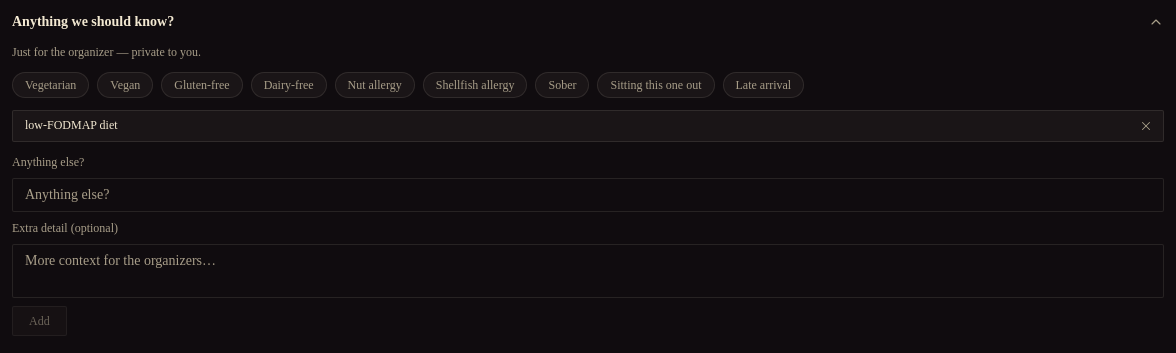
Test: ItemFlagForm — initialFlags pass-through (#365 / #398) › wires the custom-flag remove control to removeItemFlag (#398)
This screenshot has width=1176, height=353.
What coordinates should you click on to do the following:
click the button named "Remove \"low-FODMAP diet\""
I would click on:
 (1146, 126)
Its box is [1137,117,1155,135].
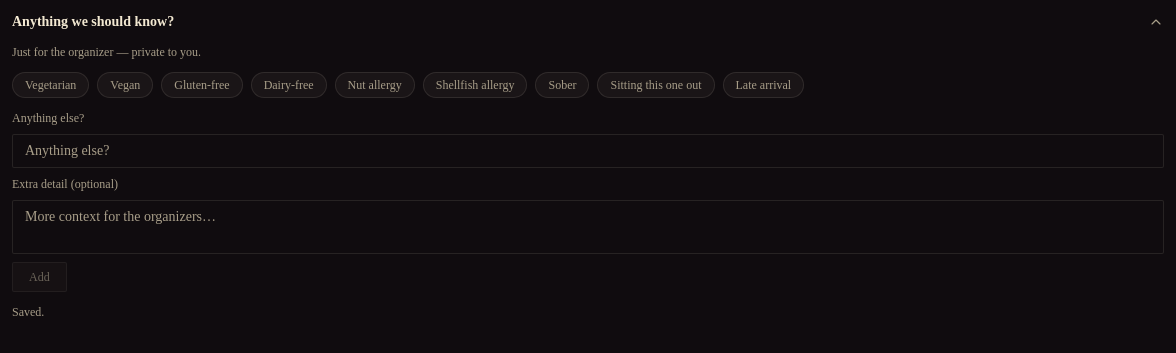
expect the text "low-FODMAP diet" is gone: met
